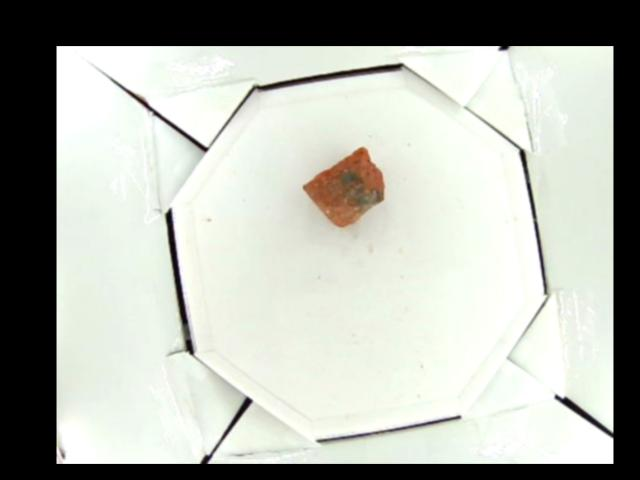Brisk: (304, 145, 382, 224)
